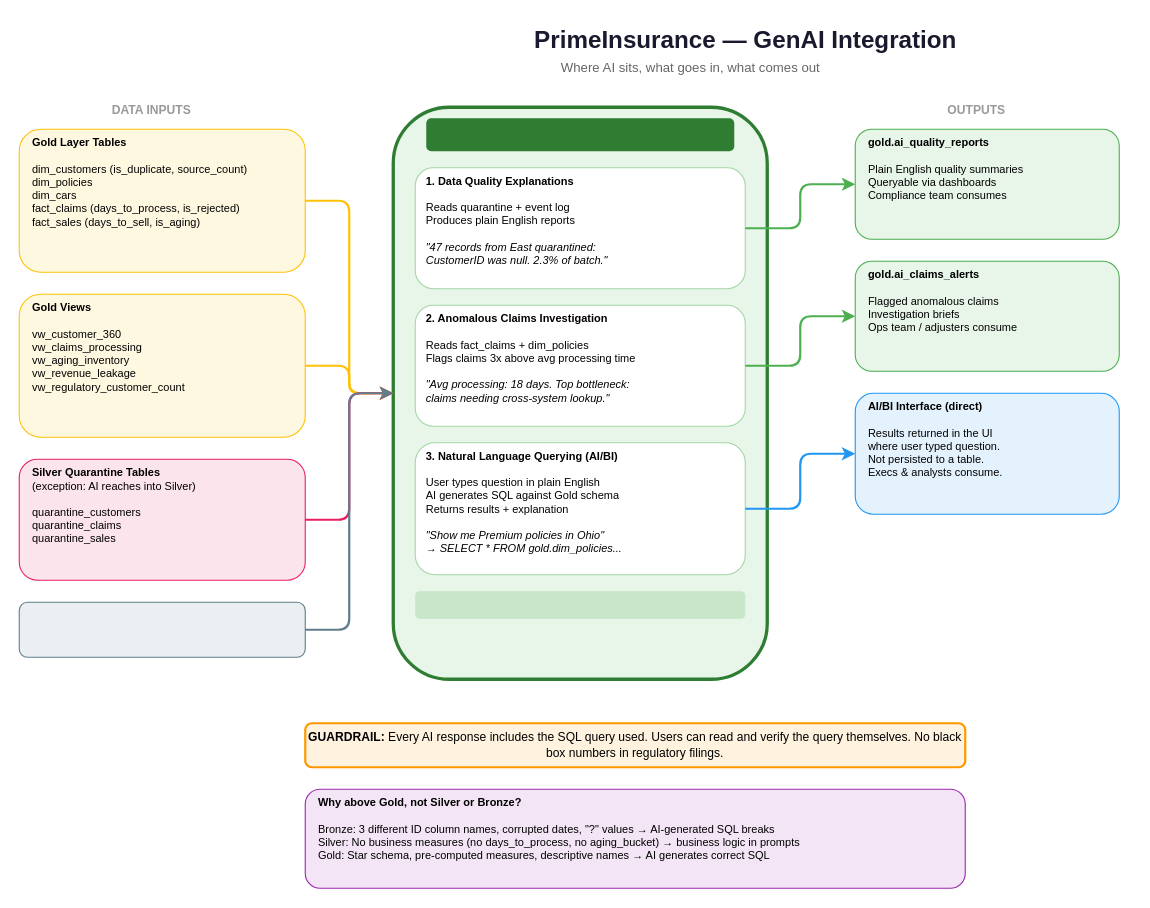
This 1150x908 diagram has some shape labels left out. The shapes that lost their labels are listed below. From the top down, each one's centre as x and y in pixels, then its label:
point 580,134: GenAI Intelligence Layer
point 580,604: Foundation Model APIs (DBRX/Llama/GPT-4) | Vector Search | Schema Comments
point 161,629: DLT Event Log Pass/fail counts, rule names, timestamps
